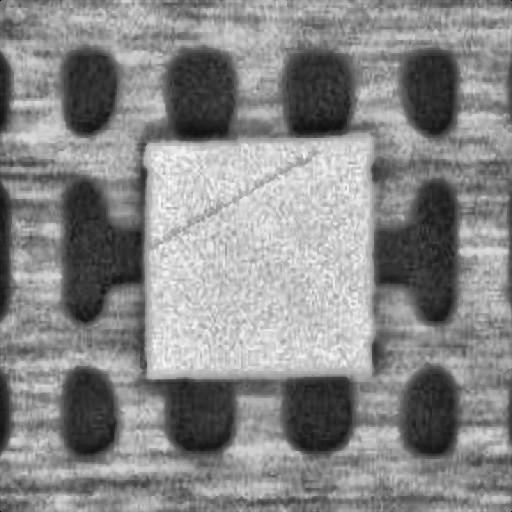DIE_CRACK: (223, 99, 472, 163)
